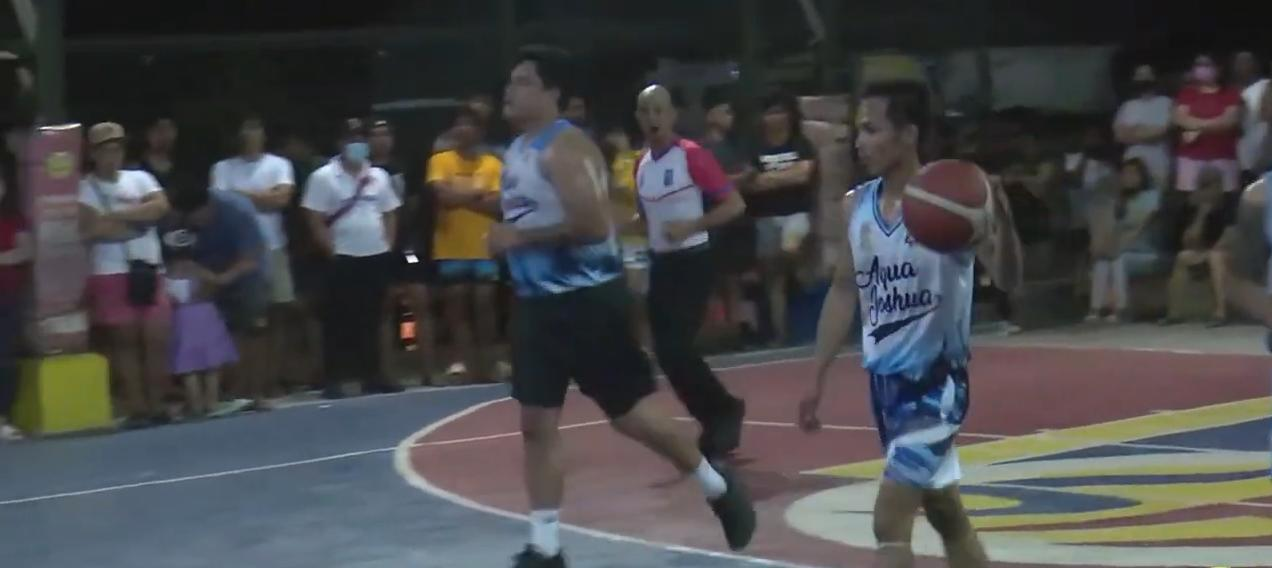ball: (892, 152, 1007, 264)
human: (455, 42, 767, 568), (780, 70, 1005, 568), (612, 75, 757, 485)
